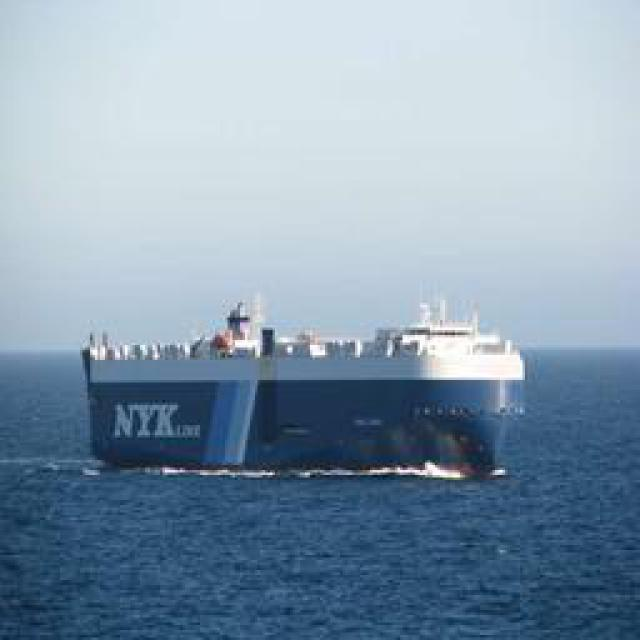Ship: (80, 310, 518, 475)
